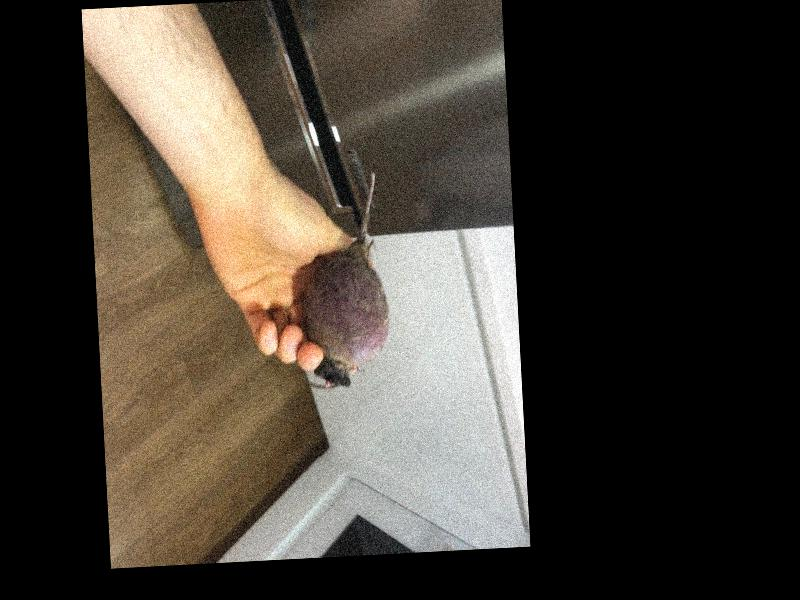Beet: (297, 172, 392, 391)
